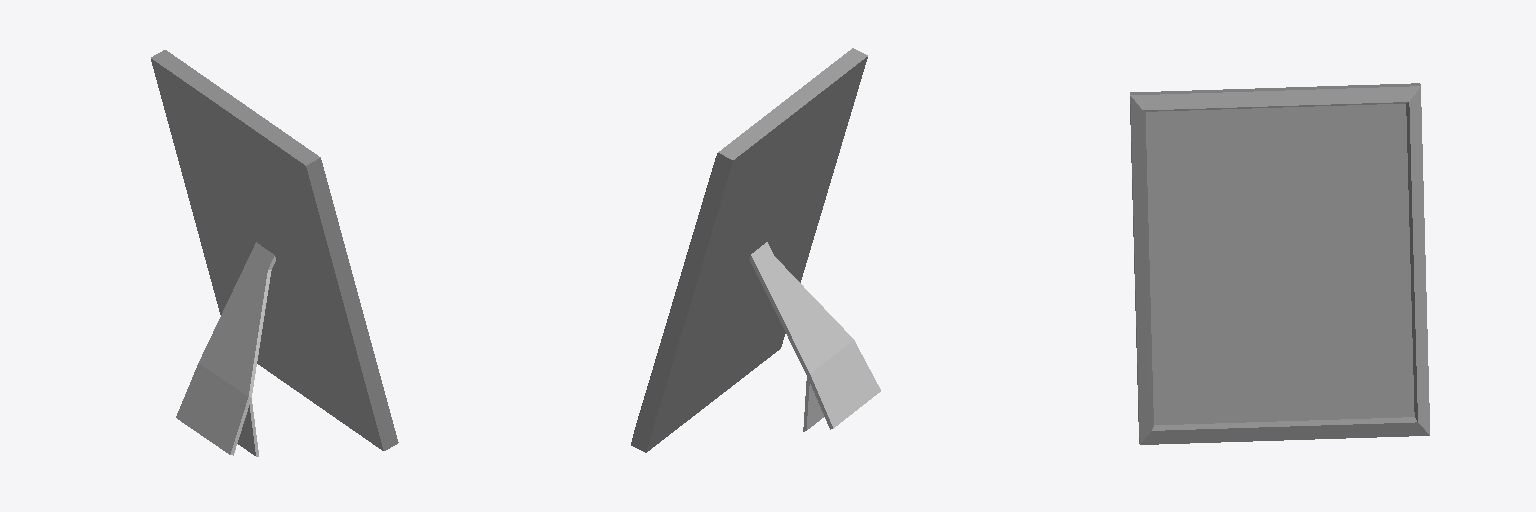
The model's file is PicFrame.obj.
3 views of the same model, side by side, from view 1: azimuth 30°, elevation 25°; view 2: azimuth 150°, elevation 25°; view 3: azimuth 270°, elevation 25° (orthographic).
Visible parts, largest first — view 1: Cube, Cube.001; view 2: Cube, Cube.001; view 3: Cube.
Part boxes in pixels (left/top/right/bottom): Cube: left=151, top=50, right=398, bottom=450; Cube.001: left=176, top=242, right=275, bottom=456; Cube: left=631, top=48, right=867, bottom=452; Cube.001: left=749, top=242, right=880, bottom=431; Cube: left=1130, top=83, right=1429, bottom=444.
Size of the model in its own units: 48.12 by 101 by 85.94.